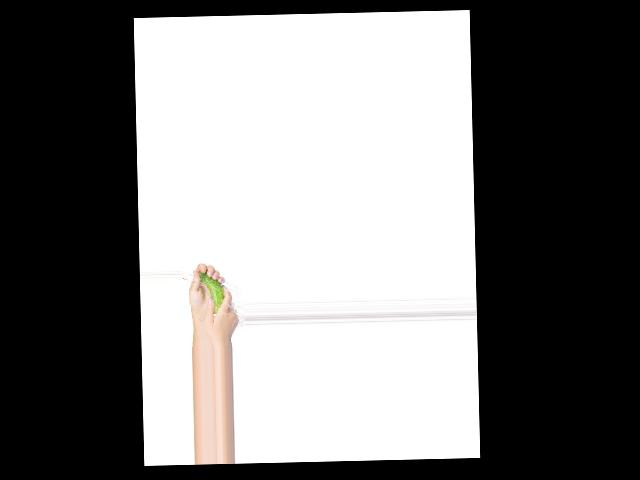cucumber: (199, 270, 225, 314)
